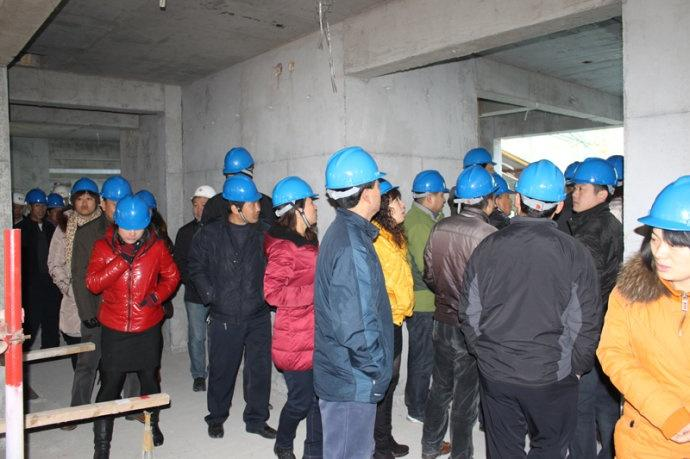Helmet: (325, 148, 383, 213), (515, 157, 567, 215), (274, 176, 321, 226), (222, 175, 261, 224), (224, 147, 254, 175)
